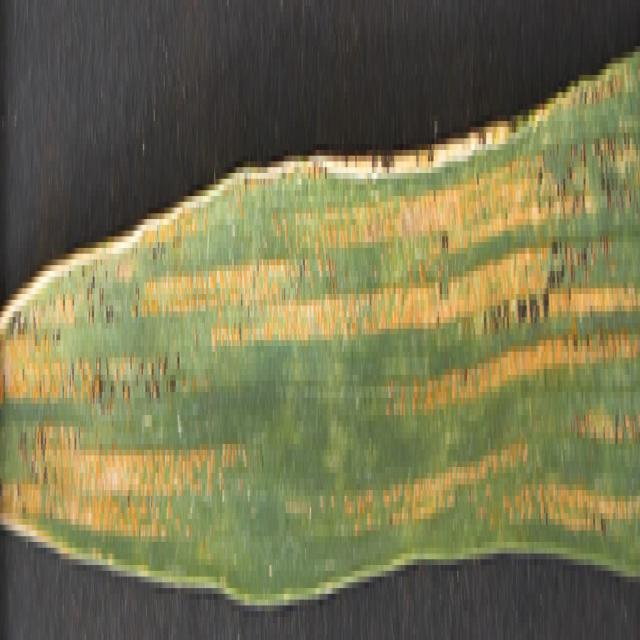leaf rust: (1, 104, 637, 588)
